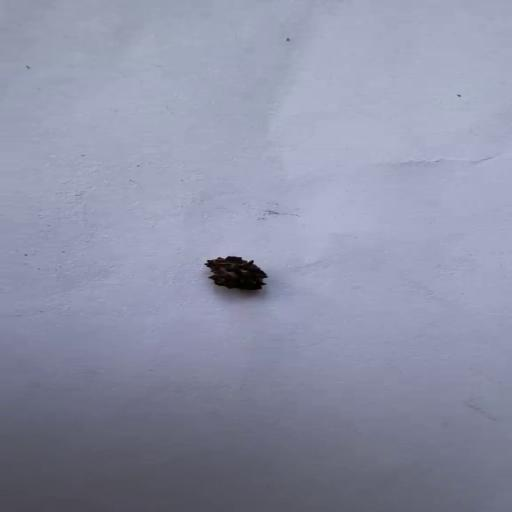papaya_seed: (202, 252, 268, 292)
